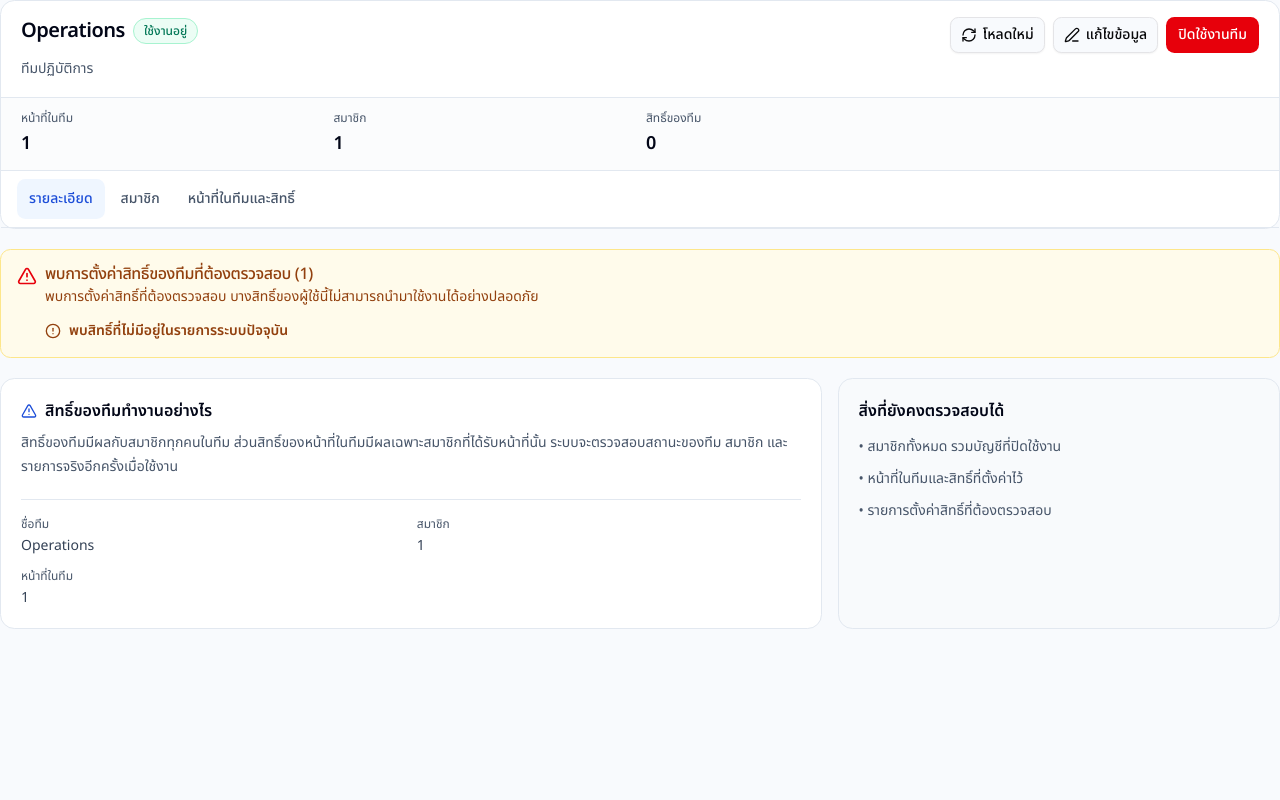
Test: TeamAdministration › requires confirmation before disabling a Team and explains retained configuration
What coordinates should you click on to do the following:
click the button "ปิดใช้งานทีม"
I would click on:
 (1213, 35)
Its box is [1166,17,1259,53].
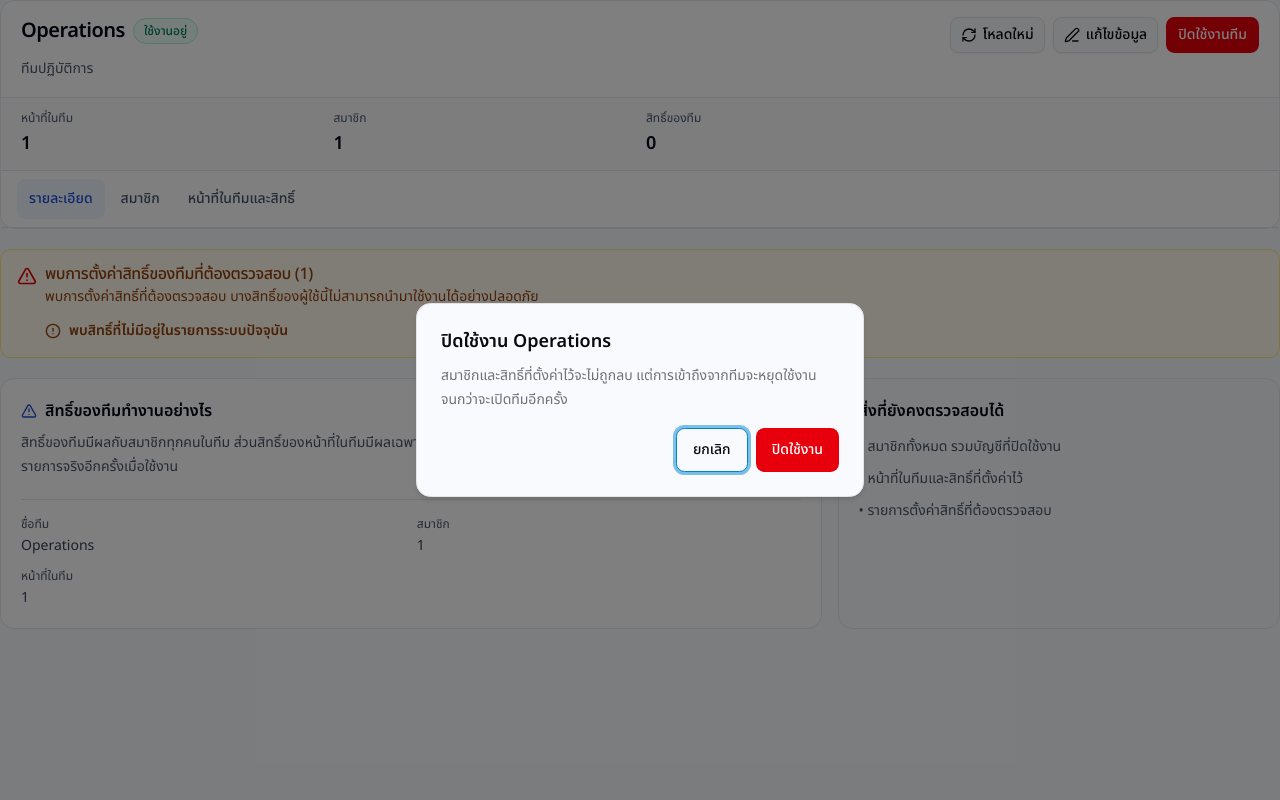
Expected: the dialog is shown, [416,303,864,497]
Expected: the text "การเข้าถึงจากทีมจะหยุดใช้งาน" is shown, [441,365,816,410]
What coordinates should you click on to do the following:
click the button "ยกเลิก"
I would click on:
 (712, 450)
Its box is [676,428,748,472].
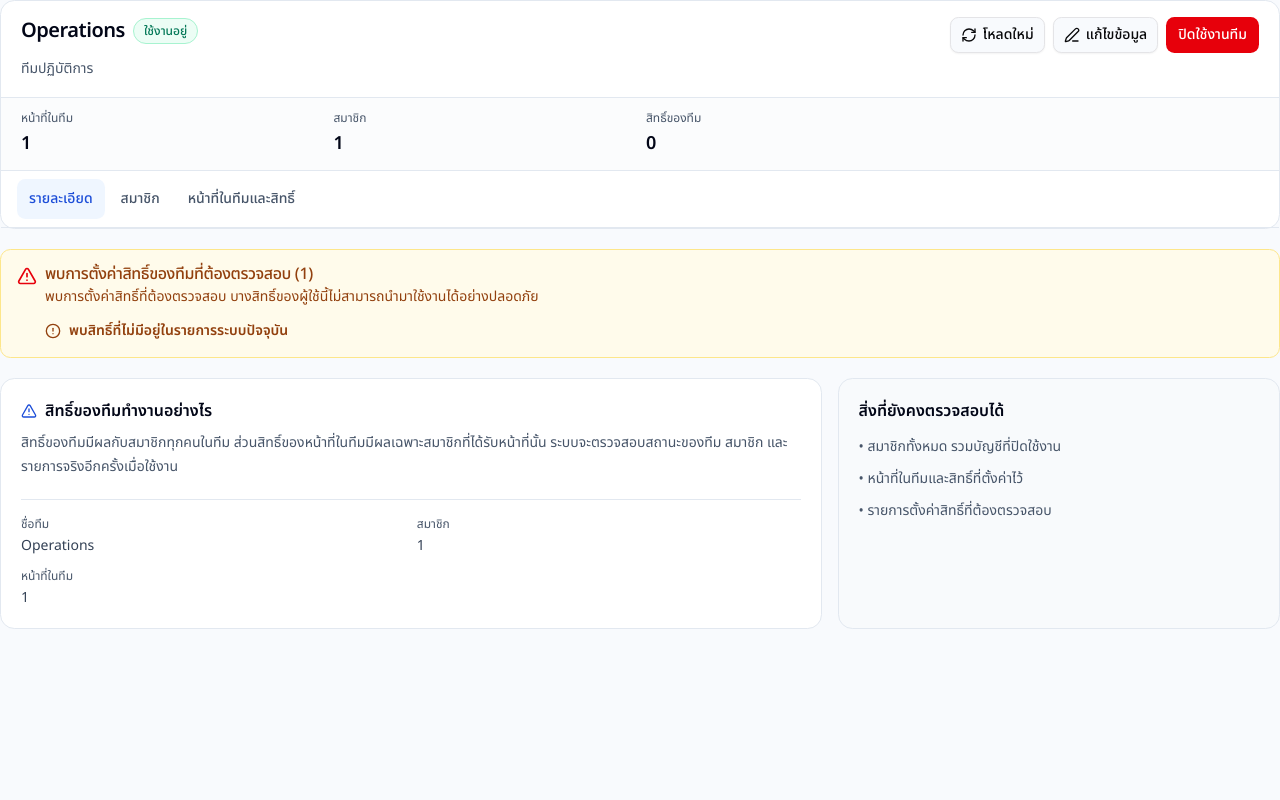
Expected: the dialog is gone
